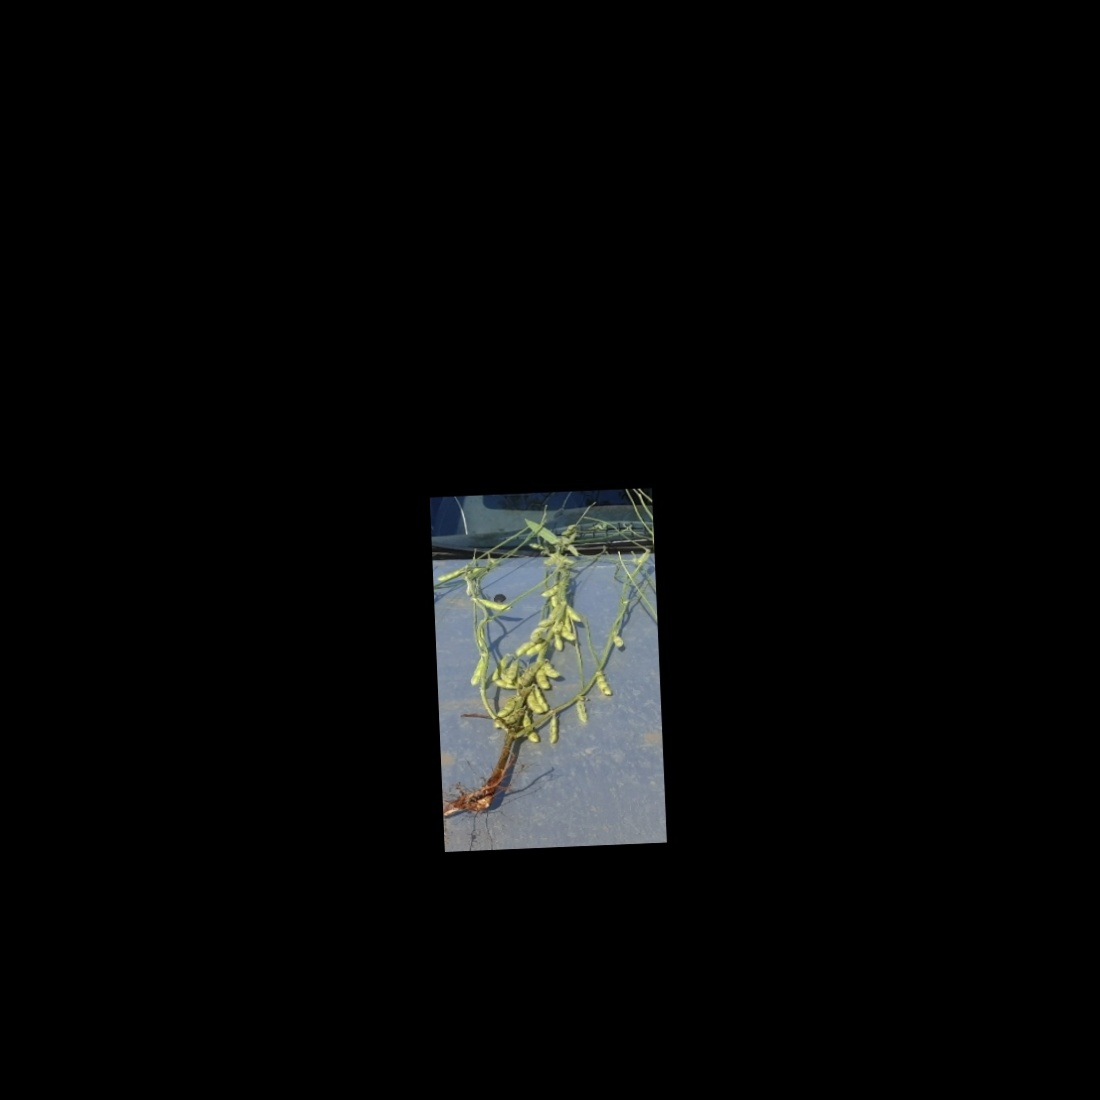pod: (466, 654, 487, 687), (592, 668, 613, 699), (474, 598, 513, 613), (545, 710, 561, 745), (531, 666, 554, 689), (539, 659, 563, 678), (574, 696, 591, 722)
soy: (435, 510, 659, 824)
